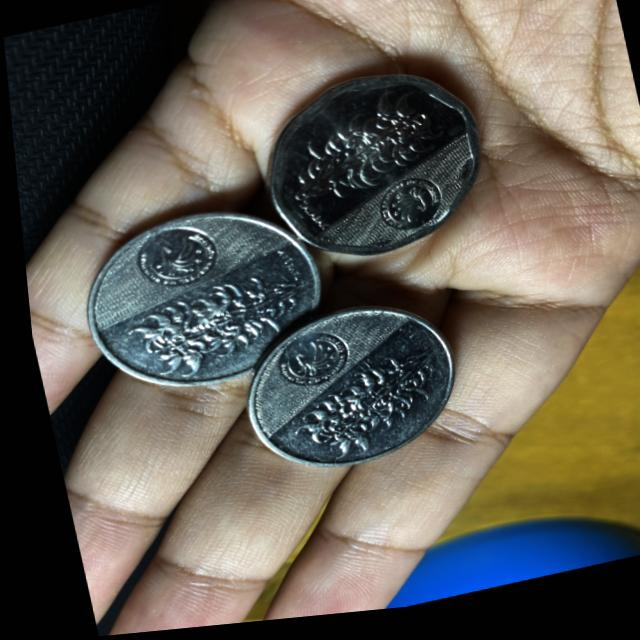5_New_Back: (114, 261, 307, 390), (273, 96, 441, 216), (281, 345, 438, 467)
